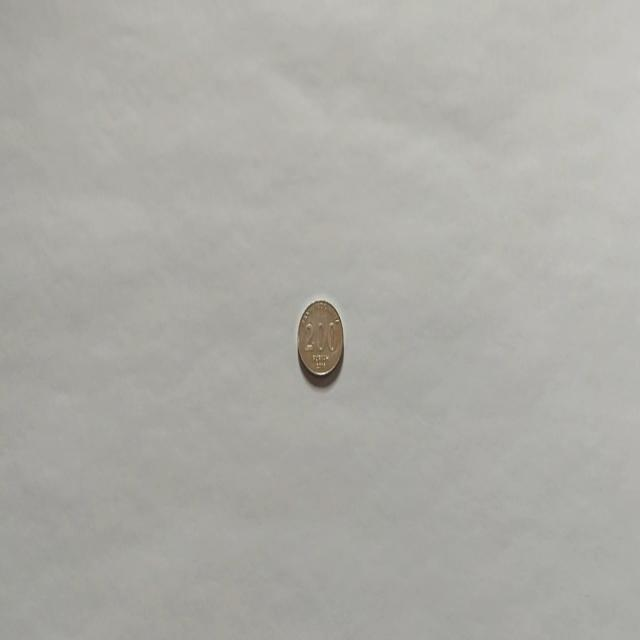dua ratus rupiah: (296, 298, 344, 380)
